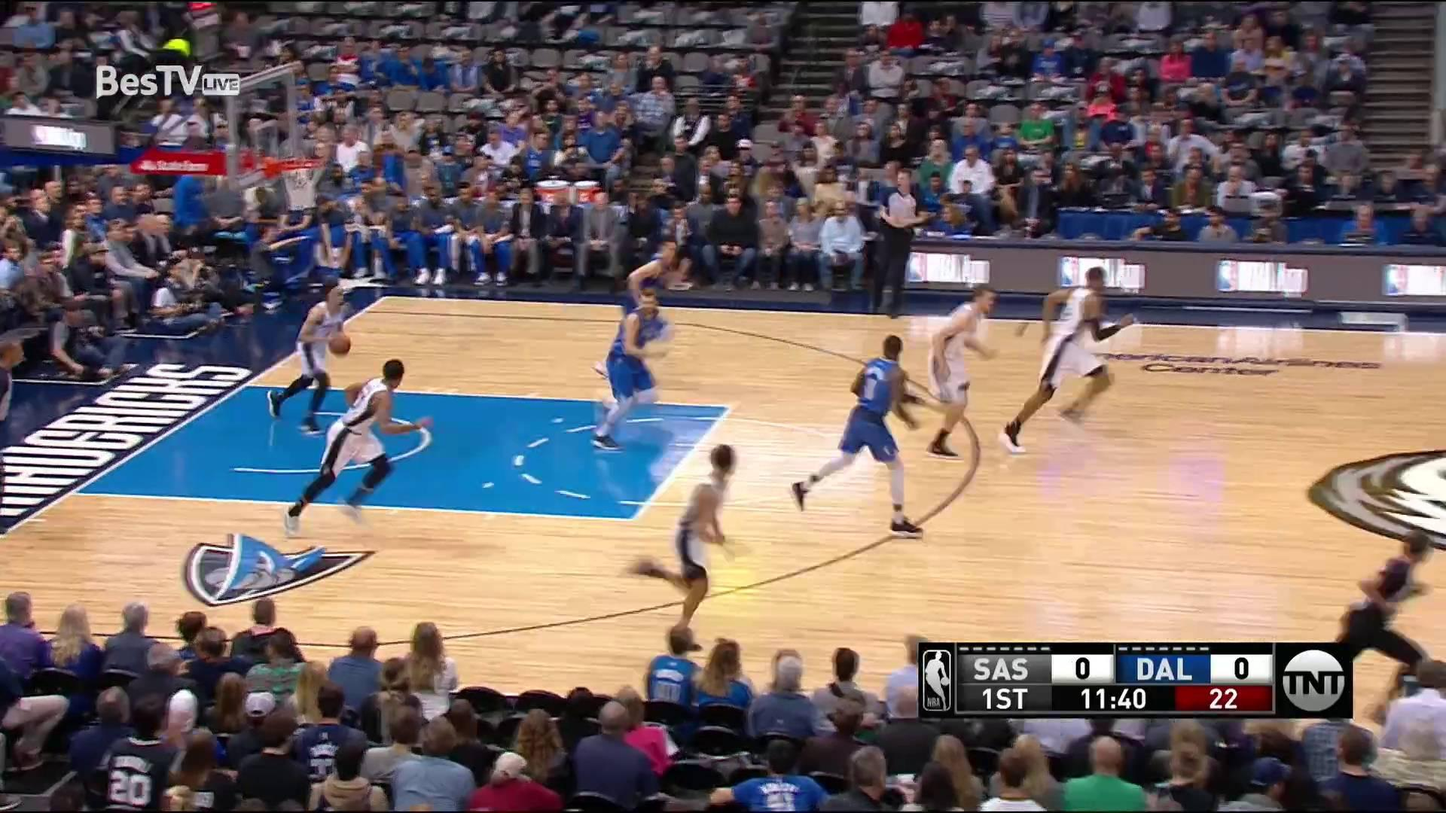basketball: (325, 331, 353, 358)
